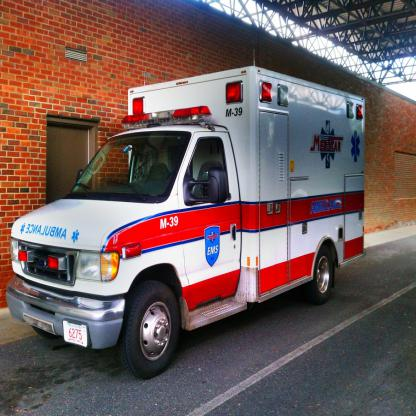Ambulance: (5, 50, 367, 377)
